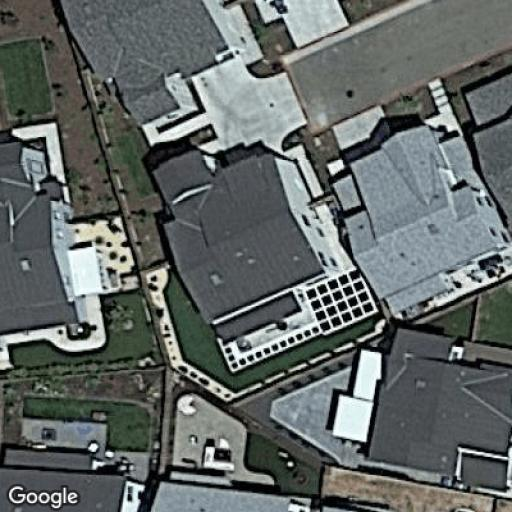solar-panel: (304, 272, 373, 332)
